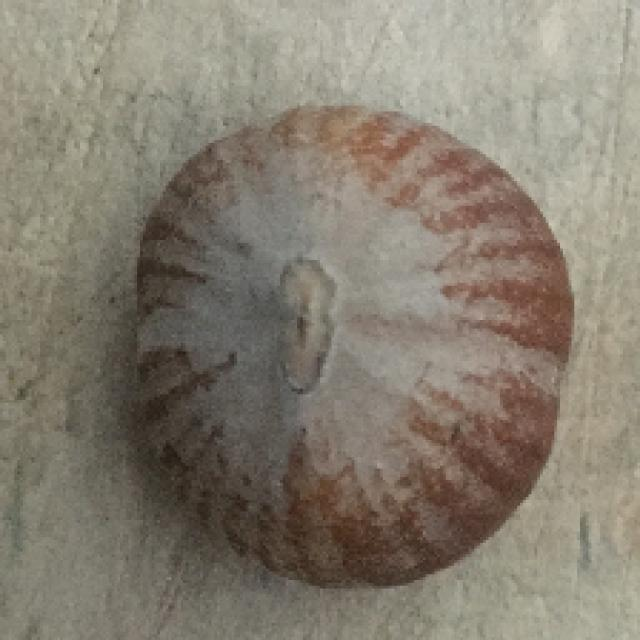QualityHazelnut: (131, 101, 570, 592)
